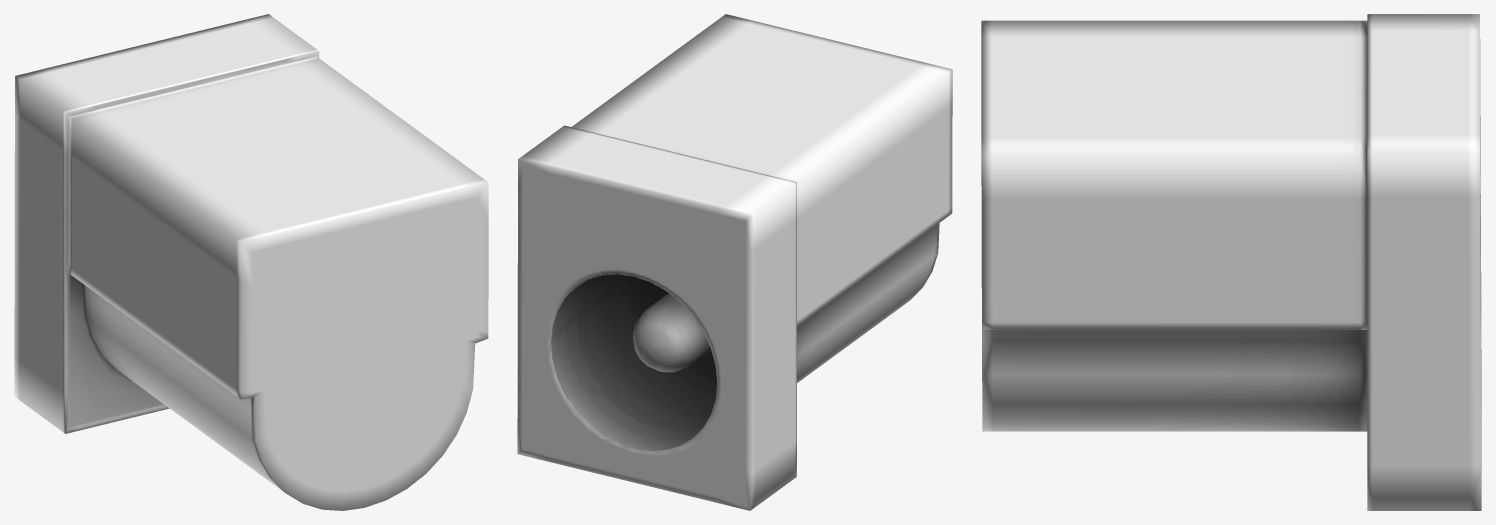
File: V1_21_PWcon.fbx
3 renders of one model, left to right at view 1: azimuth 30°, elevation 25°; view 2: azimuth 150°, elevation 25°; view 3: azimuth 270°, elevation 25°, orthographic. The views are drawn at different scales.
Parts seen in each view (by area): view 1: PW_Jack_RET_Ext; view 2: PW_Jack_RET_Ext, PW_Jack_RET_PIN; view 3: PW_Jack_RET_Ext.
Boxes of the visible parts, left/top/right/bottom form: PW_Jack_RET_Ext: left=14, top=14, right=488, bottom=510; PW_Jack_RET_Ext: left=517, top=14, right=952, bottom=510; PW_Jack_RET_PIN: left=633, top=293, right=711, bottom=372; PW_Jack_RET_Ext: left=981, top=14, right=1481, bottom=510.
Size of the model in its own units: 877 by 1061 by 1341.
